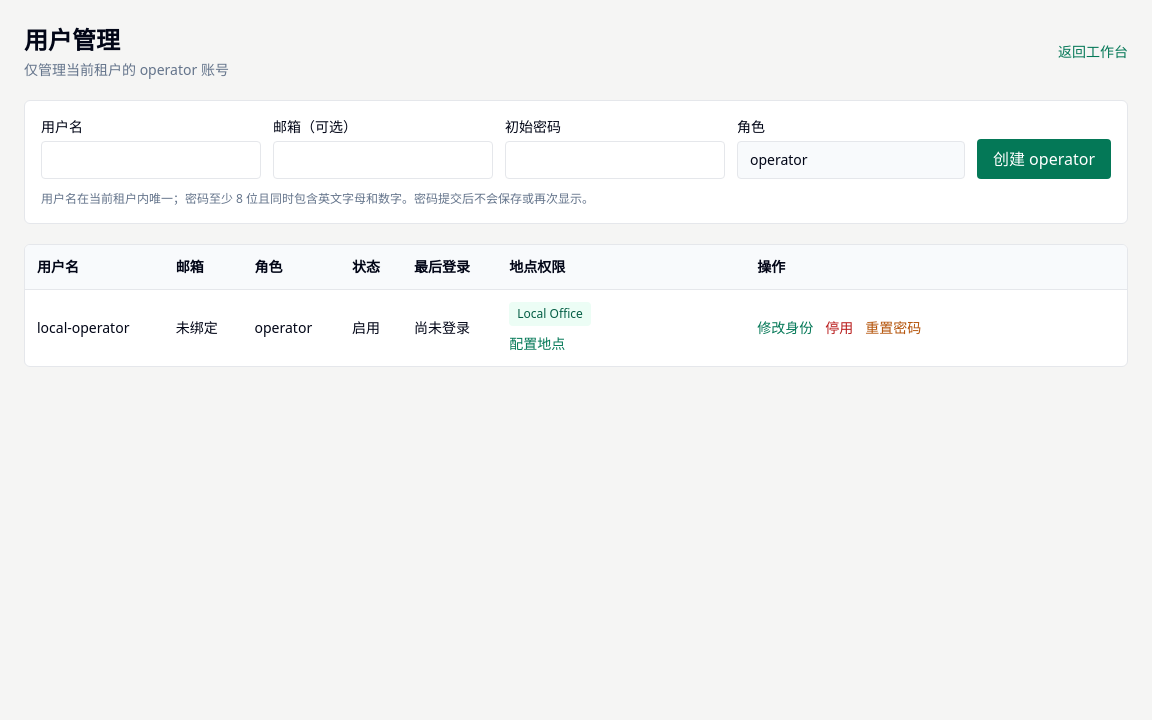
Test: users page › marks inactive locations and does not allow assigning them
The image size is (1152, 720).
Click the button "配置地点" at (537, 344), box [509, 334, 565, 354]
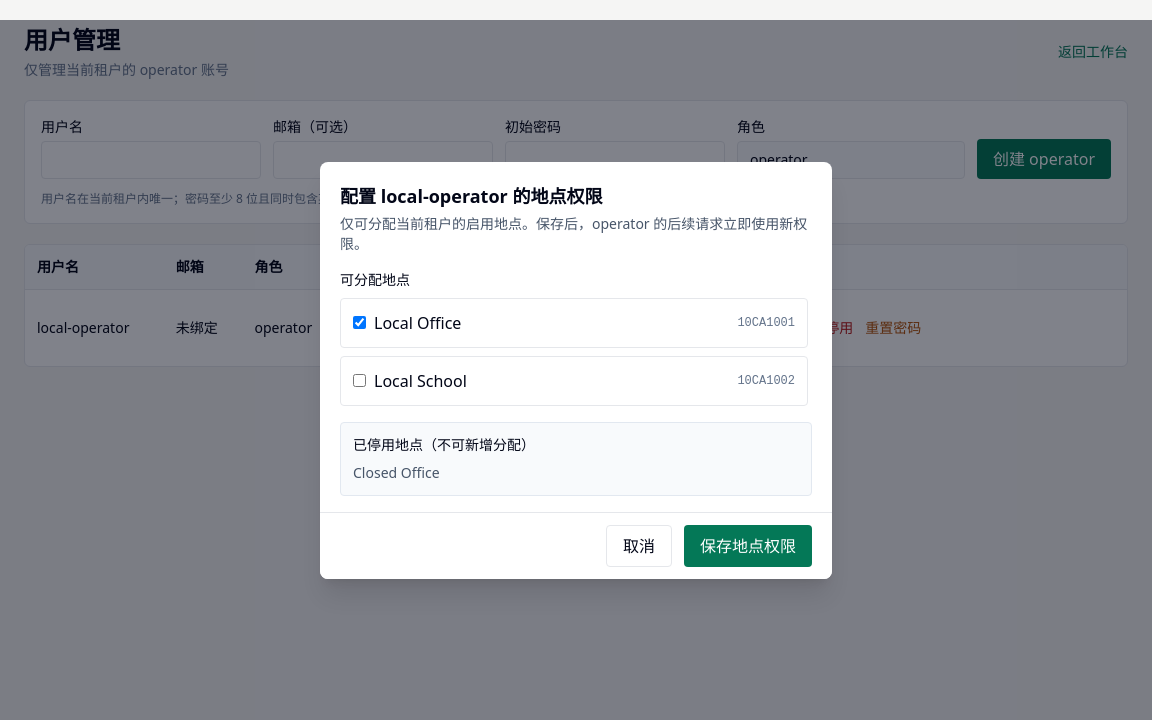
Check: the list item "Closed Office" is shown, box [353, 462, 440, 482]
Check: the text "已停用地点（不可新增分配）" is shown, box [353, 434, 535, 454]
